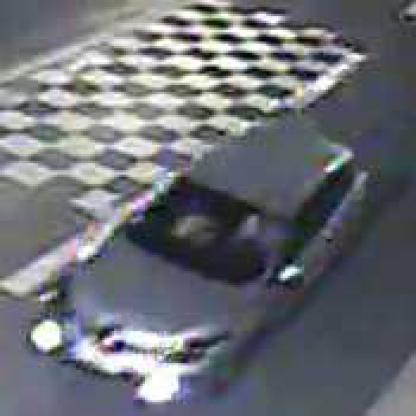car: (37, 114, 374, 406)
